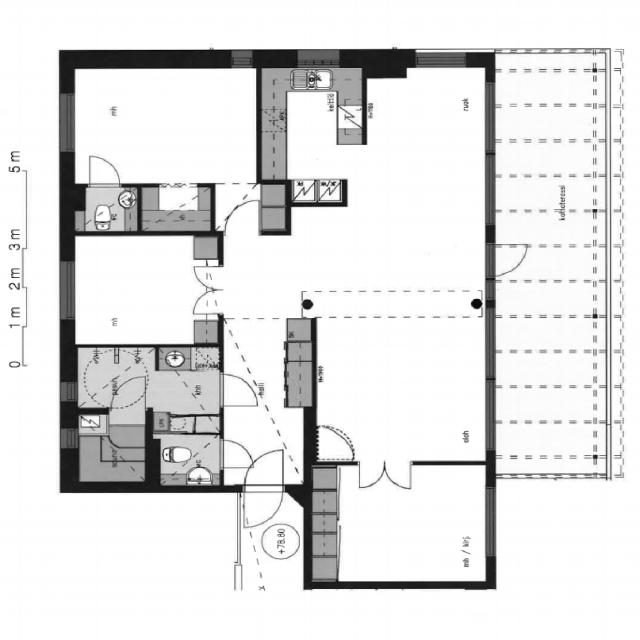door: (238, 444, 288, 529), (351, 458, 418, 492), (189, 260, 224, 320), (214, 370, 261, 410), (221, 196, 265, 238), (82, 151, 128, 190), (312, 424, 358, 460), (489, 242, 530, 278), (111, 374, 150, 411), (218, 437, 253, 469)
window: (479, 375, 502, 455), (406, 45, 473, 72), (480, 482, 499, 562), (57, 88, 78, 156), (58, 257, 78, 325), (291, 54, 344, 69), (59, 376, 80, 404), (58, 425, 80, 451), (227, 49, 255, 69)
zone: (310, 310, 491, 465), (69, 63, 259, 185), (308, 466, 492, 584), (68, 232, 220, 348), (215, 304, 312, 474), (259, 64, 361, 204), (75, 410, 150, 484), (151, 346, 221, 425), (74, 346, 157, 408), (153, 432, 223, 487), (138, 184, 216, 232), (74, 184, 141, 234), (313, 425, 356, 461)
